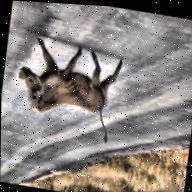boar: (11, 35, 123, 146)
